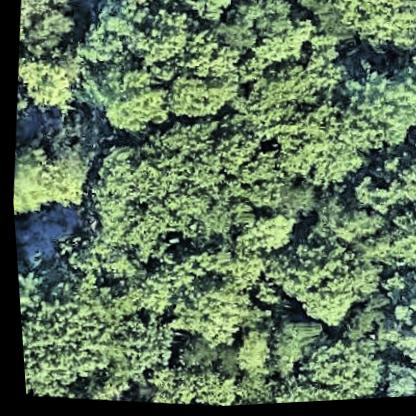tree-top: (13, 245, 120, 404), (153, 119, 280, 248), (272, 224, 386, 332), (157, 245, 261, 350), (7, 124, 102, 222), (332, 56, 416, 158), (262, 334, 376, 406), (92, 57, 175, 150), (134, 358, 237, 411), (11, 45, 80, 123), (324, 0, 416, 56), (344, 155, 416, 220), (214, 0, 292, 58), (107, 310, 171, 379), (366, 285, 416, 370), (18, 0, 82, 56), (368, 215, 416, 283), (374, 363, 416, 402)
